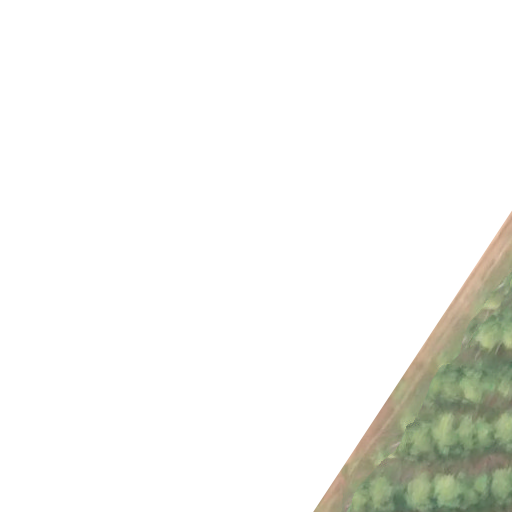eucalipto: (400, 421, 433, 454), (404, 474, 432, 510), (434, 474, 463, 508), (367, 478, 395, 510), (436, 418, 460, 454), (468, 419, 495, 451), (459, 371, 484, 405), (475, 320, 502, 351), (490, 469, 512, 505), (458, 418, 478, 454), (442, 367, 462, 401), (495, 412, 512, 450), (499, 363, 512, 402)
